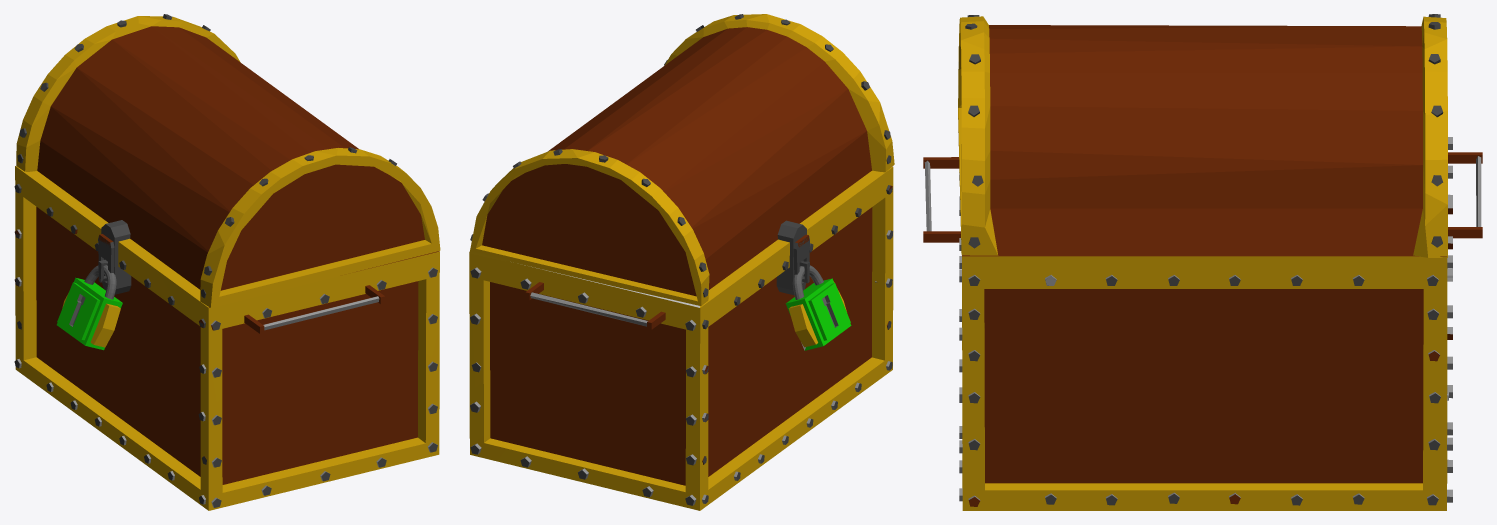
Rendered from GreenChestAndLock.fbx.
The picture shows the model from 3 angles, left to right: view 1: azimuth 30°, elevation 25°; view 2: azimuth 150°, elevation 25°; view 3: azimuth 270°, elevation 25°; orthographic projection. The views are drawn at different scales.
Visible parts, largest first — view 1: Cube.001, Cube; view 2: Cube.001, Cube; view 3: Cube.001.
Part boxes in pixels (left/top/right/bottom): Cube.001: left=14, top=14, right=440, bottom=510; Cube: left=56, top=265, right=122, bottom=350; Cube.001: left=469, top=14, right=894, bottom=510; Cube: left=785, top=265, right=851, bottom=350; Cube.001: left=923, top=14, right=1482, bottom=510.
Size of the model in its own units: 239 by 270 by 334.
